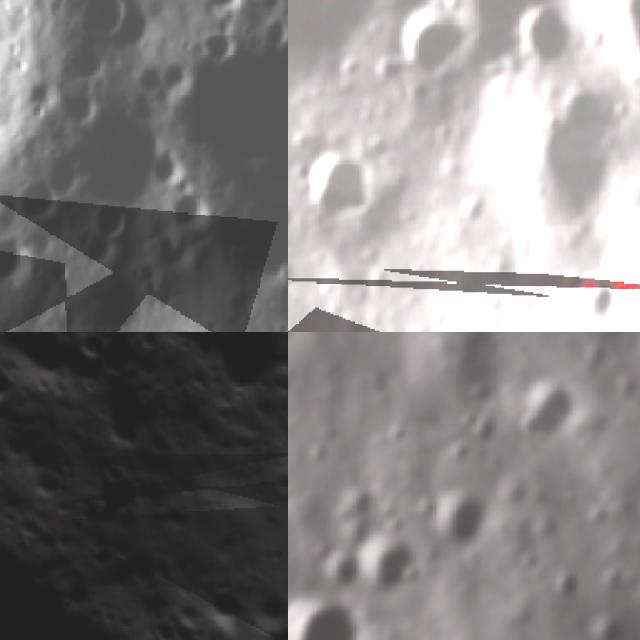crater: (0, 0, 75, 326), (520, 70, 620, 244), (507, 367, 588, 451), (289, 146, 370, 228), (395, 5, 475, 84), (592, 0, 640, 128), (354, 523, 425, 604), (506, 0, 583, 73), (428, 478, 499, 555), (89, 261, 155, 332), (288, 589, 375, 640), (607, 221, 640, 332), (71, 0, 144, 47), (12, 173, 64, 230), (40, 141, 93, 196), (567, 272, 614, 328), (316, 549, 365, 601), (0, 234, 39, 298), (166, 187, 214, 233), (198, 20, 245, 63), (543, 565, 585, 613), (86, 196, 130, 240), (450, 188, 489, 235), (463, 369, 505, 407), (59, 332, 103, 366), (267, 263, 288, 332), (372, 52, 404, 92), (260, 10, 288, 53), (0, 351, 16, 422), (203, 0, 254, 18), (456, 407, 485, 438), (305, 435, 333, 466), (383, 416, 409, 448), (288, 252, 305, 292), (448, 441, 473, 468), (288, 199, 294, 239)
